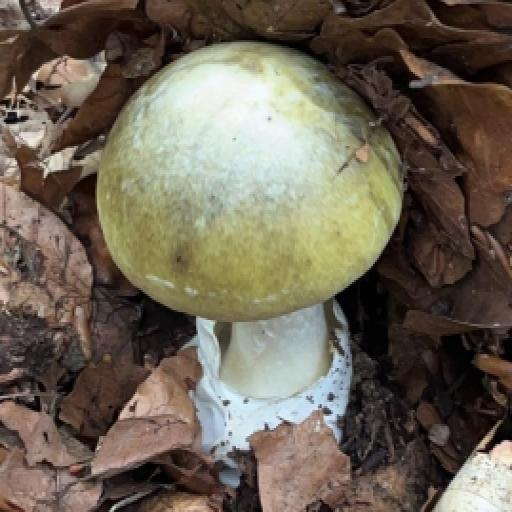mushroom: (49, 0, 494, 491)
